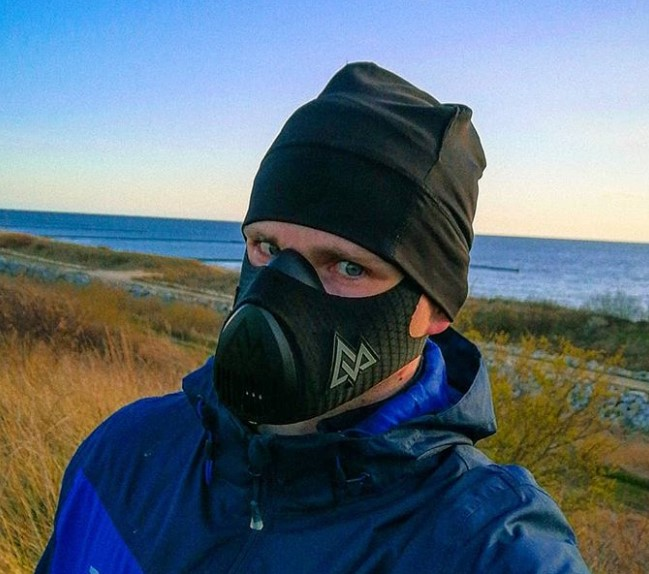face_with_mask: (203, 65, 485, 431)
